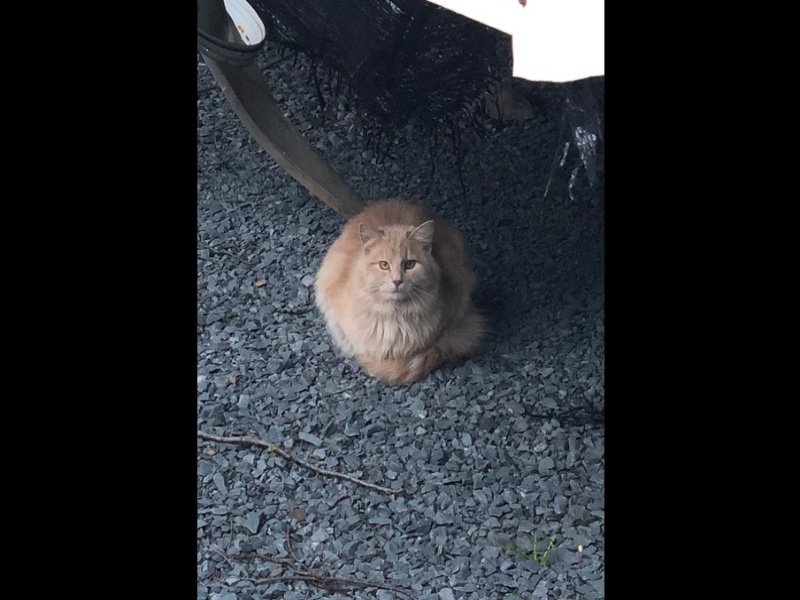cat: (313, 193, 493, 390)
